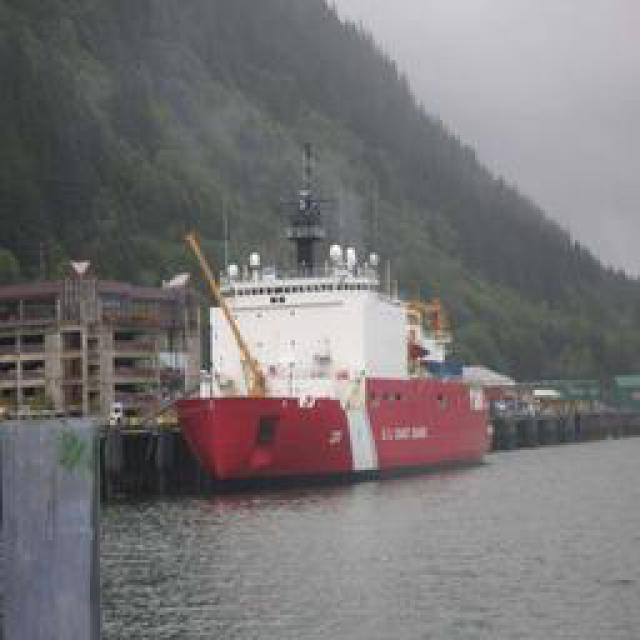Ship: (171, 212, 471, 482)
